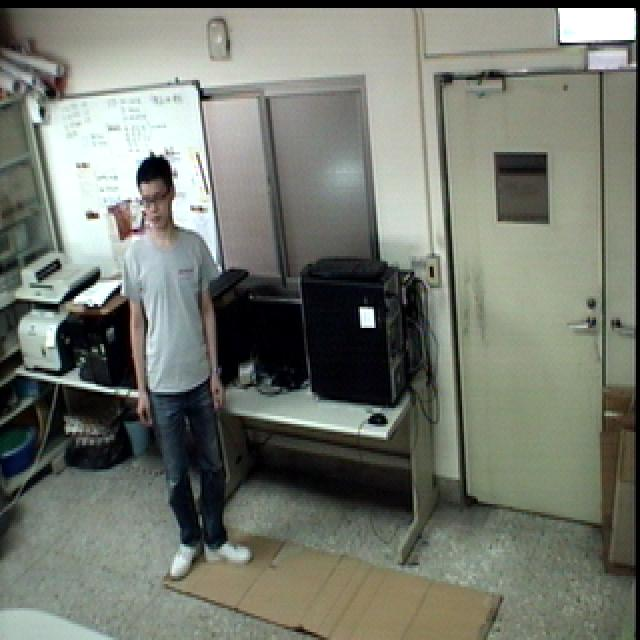stand: (116, 148, 259, 586)
